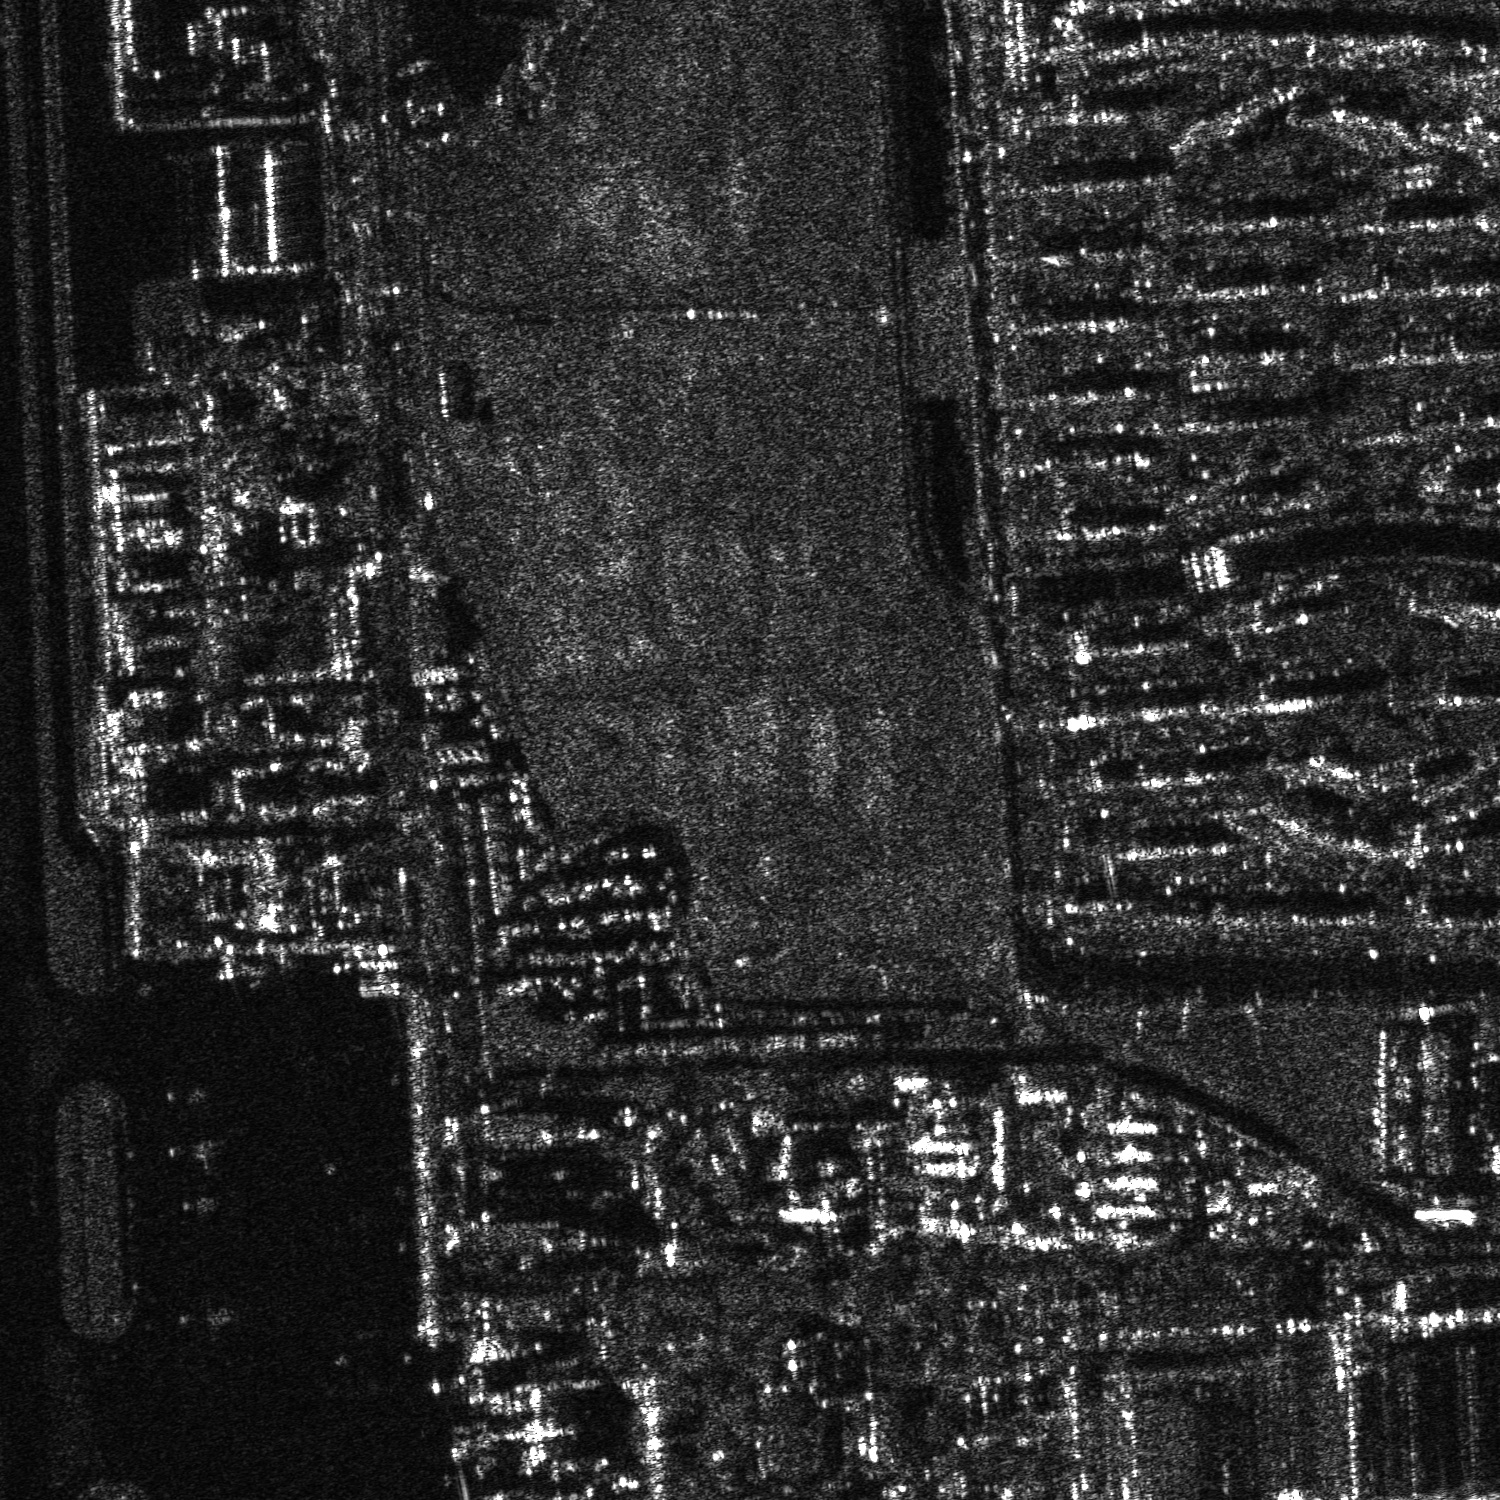ARJ21: (159, 1128, 228, 1172), (170, 1183, 227, 1223)
other: (150, 1073, 217, 1115), (177, 1293, 240, 1335)
